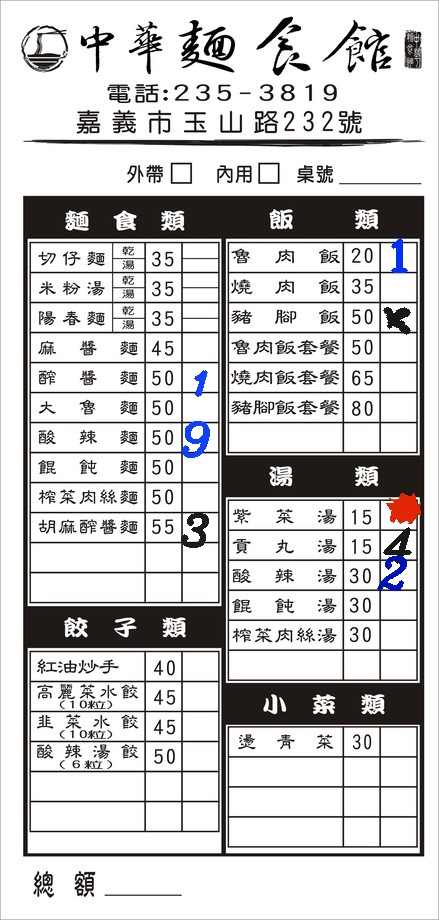marked_circle: (381, 500, 417, 529)
marked_number_1: (381, 242, 417, 271), (182, 362, 218, 391)
marked_number_2: (380, 561, 416, 590)
marked_number_3: (181, 512, 217, 541)
marked_number_4: (380, 531, 416, 560)
marked_number_9: (181, 424, 217, 453)
marked_x: (380, 302, 416, 331)
